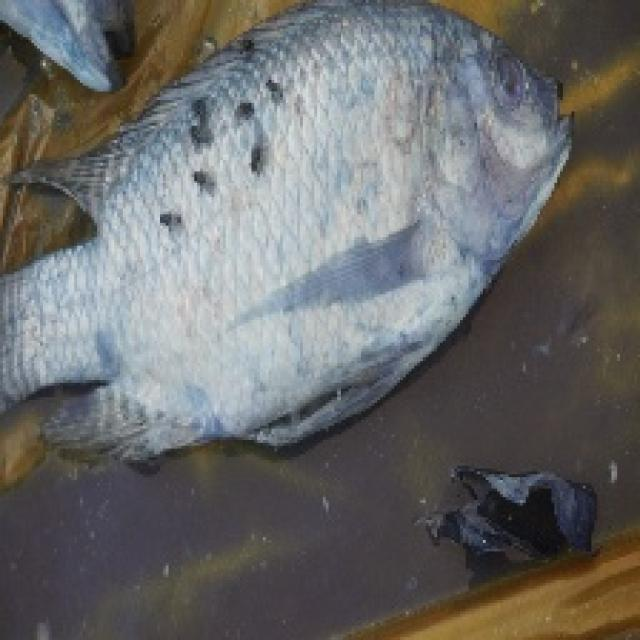Non-Fresh: (49, 1, 598, 372)
